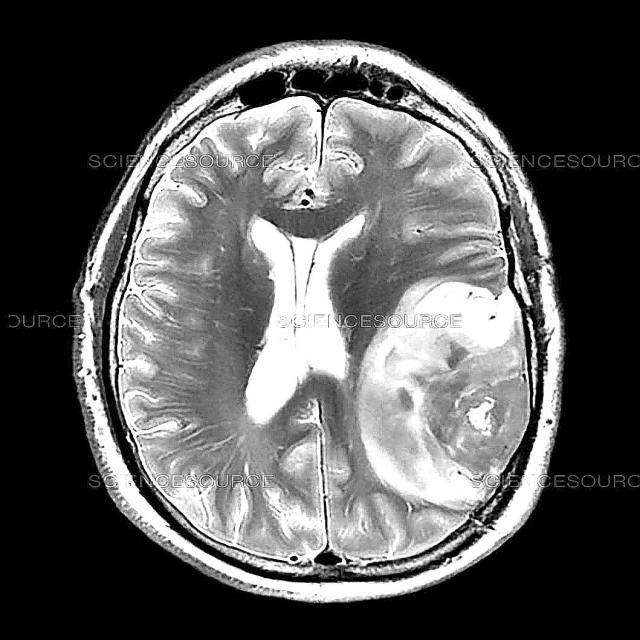Tumor: (353, 271, 540, 525)
